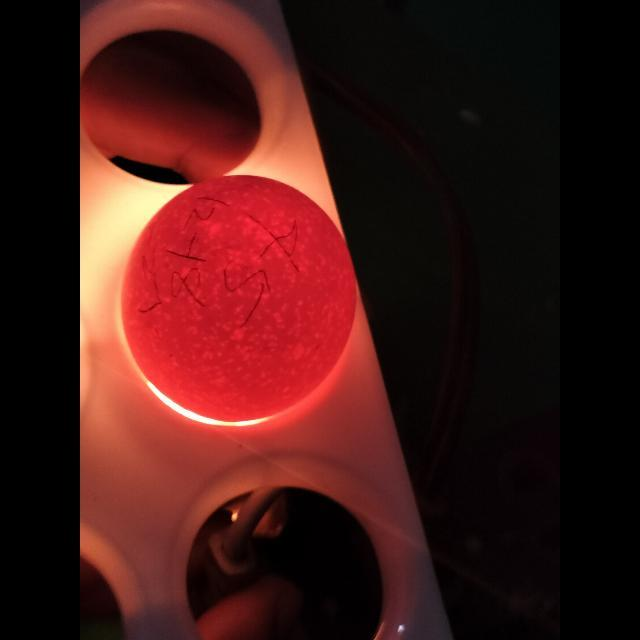Infertile: (126, 174, 357, 418)
